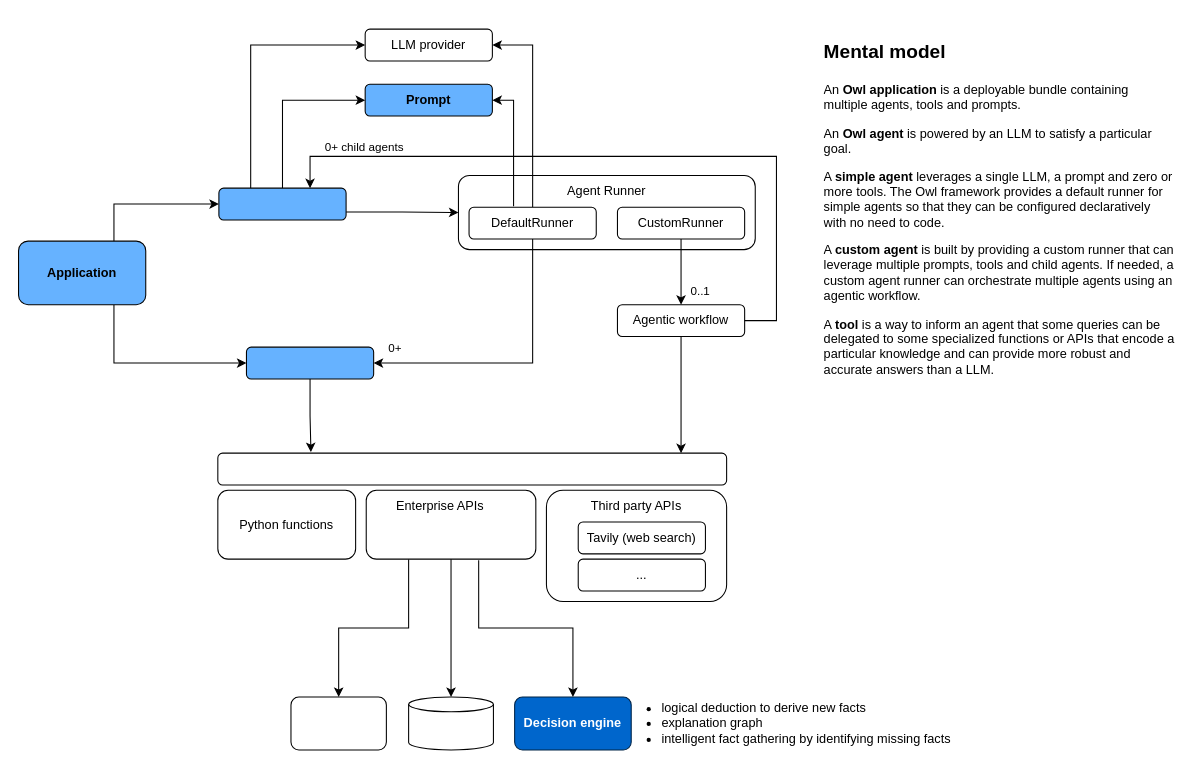
This 1198x777 diagram has some shape labels left out. Here are the shapes that lost their labels. From the top down, the box of each, then its label:
(218, 187, 346, 220): Agent
(245, 346, 374, 379): Tool
(217, 452, 727, 485): Libraries and APIs
(290, 696, 386, 750): Enterprise backend systems
(408, 696, 493, 750): Enterprise databases
